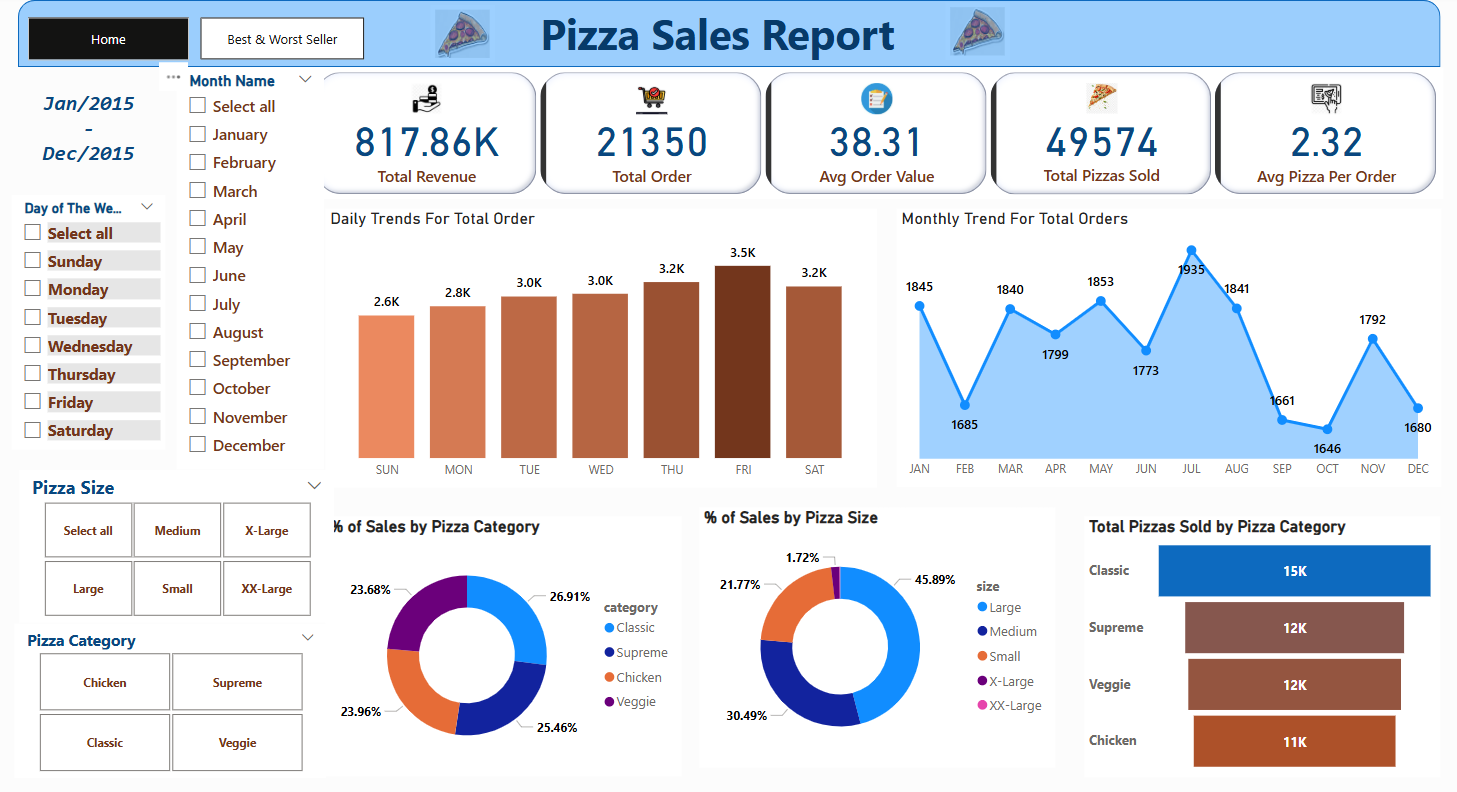

What the dashboard file says about the page in this screenshot:
{"tool":"powerbi","page":{"name":"Home","canvas":[1500,820],"ordinal":0},"visuals":[{"type":"cardVisual","fields":{"Data":["pizza_hut pizzas.Total Revenue","pizza_hut order_details.Total Order","pizza_hut order_details.Avg Order Value","pizza_hut order_details.Total Pizzas Sold","pizza_hut order_details.Avg Pizza Per Order"]},"box":[321.1,69,1163.4,135.2],"z":0},{"type":"textbox","box":[456.3,0,566.2,84.5],"z":1000},{"type":"image","box":[443.7,5.6,66.2,59.2],"z":2000},{"type":"image","box":[973.2,2.8,66.2,59.2],"z":3000},{"type":"columnChart","title":"Daily Trends For Total Order","fields":{"Category":["pizza_hut orders.Order Day.Variation.Date Hierarchy.Year"],"Y":["pizza_hut order_details.Total Order"]},"box":[336.3,214.4,566.1,286.3],"z":4000},{"type":"areaChart","title":"Monthly Trend For Total Orders","fields":{"Y":["pizza_hut order_details.Total Order"],"Category":["pizza_hut orders.Oder Month"]},"box":[922.5,214.1,559.2,285.9],"z":5000},{"type":"donutChart","title":"% of Sales by Pizza Category","fields":{"Category":["pizza_hut pizza_types.category"],"Y":["pizza_hut pizzas.Total Revenue"]},"box":[336.3,530.2,365.8,267],"z":6000},{"type":"donutChart","title":"% of Sales by Pizza Size","fields":{"Y":["pizza_hut pizzas.Total Revenue"],"Category":["pizza_hut pizzas.size"]},"box":[720.1,521.2,365.8,267],"z":7000},{"type":"funnel","title":"Total Pizzas Sold by Pizza Category","fields":{"Category":["pizza_hut pizza_types.category"],"Y":["pizza_hut order_details.Total Pizzas Sold"]},"box":[1115.5,530.2,365.8,268.3],"z":8000},{"type":"slicer","fields":{"Values":["pizza_hut orders.Day Name"]},"box":[14.1,200,157.7,262],"z":9000},{"type":"slicer","fields":{"Values":["pizza_hut orders.Month Name"]},"box":[184,69.5,151.3,412.9],"z":10000},{"type":"slicer","fields":{"Values":["pizza_hut pizza_types.category"]},"box":[16.4,640.4,320.2,158.1],"z":11000},{"type":"slicer","fields":{"Values":["pizza_hut pizzas.size"]},"box":[21.8,482.4,322.9,156.7],"z":12000},{"type":"textbox","box":[14.1,88.7,157.7,95.8],"z":13000},{"type":"shape","box":[21.1,0,1460.6,69],"z":14000},{"type":"pageNavigator","box":[31.2,18.4,165.8,43.9],"z":14001},{"type":"pageNavigator","box":[208.3,18.4,168.6,43.9],"z":14002}]}

Visuals, with their boxes in screenshot pixels (x1, y1, x2, y2), scaled from the page's 1500x820 canvas onto the 1457x792 screenshot:
cardVisual - pizza_hut pizzas.Total Revenue x pizza_hut order_details.Total Order: {"left": 312, "top": 67, "right": 1442, "bottom": 197}
textbox: {"left": 443, "top": 0, "right": 993, "bottom": 82}
image: {"left": 431, "top": 5, "right": 495, "bottom": 63}
image: {"left": 945, "top": 3, "right": 1010, "bottom": 60}
"Daily Trends For Total Order" columnChart: {"left": 327, "top": 207, "right": 877, "bottom": 484}
"Monthly Trend For Total Orders" areaChart: {"left": 896, "top": 207, "right": 1439, "bottom": 483}
"% of Sales by Pizza Category" donutChart: {"left": 327, "top": 512, "right": 682, "bottom": 770}
"% of Sales by Pizza Size" donutChart: {"left": 699, "top": 503, "right": 1055, "bottom": 761}
"Total Pizzas Sold by Pizza Category" funnel: {"left": 1084, "top": 512, "right": 1439, "bottom": 771}
slicer - pizza_hut orders.Day Name: {"left": 14, "top": 193, "right": 167, "bottom": 446}
slicer - pizza_hut orders.Month Name: {"left": 179, "top": 67, "right": 326, "bottom": 466}
slicer - pizza_hut pizza_types.category: {"left": 16, "top": 619, "right": 327, "bottom": 771}
slicer - pizza_hut pizzas.size: {"left": 21, "top": 466, "right": 335, "bottom": 617}
textbox: {"left": 14, "top": 86, "right": 167, "bottom": 178}
shape: {"left": 20, "top": 0, "right": 1439, "bottom": 67}
pageNavigator: {"left": 30, "top": 18, "right": 191, "bottom": 60}
pageNavigator: {"left": 202, "top": 18, "right": 366, "bottom": 60}
